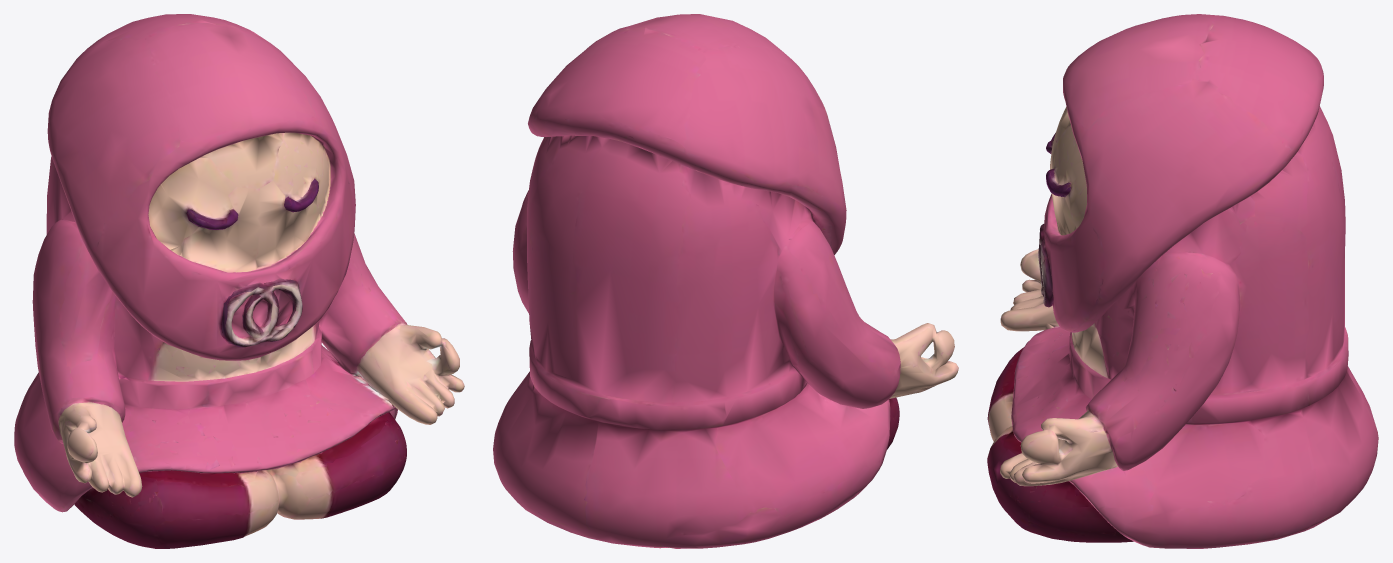
The model's file is professor-sentado.glb.
3 views of the same model, side by side, from view 1: azimuth 30°, elevation 25°; view 2: azimuth 150°, elevation 25°; view 3: azimuth 270°, elevation 25° (orthographic). The views are drawn at different scales.
Visible parts, largest first — view 1: geometry_0; view 2: geometry_0; view 3: geometry_0.
Part boxes in pixels (x1=…): geometry_0: x1=14, y1=14, x2=464, y2=548; geometry_0: x1=493, y1=14, x2=958, y2=548; geometry_0: x1=987, y1=14, x2=1378, y2=548.
Size of the model in its own units: 0.9159 by 0.9997 by 0.7789.
1 material, 1 textured.
